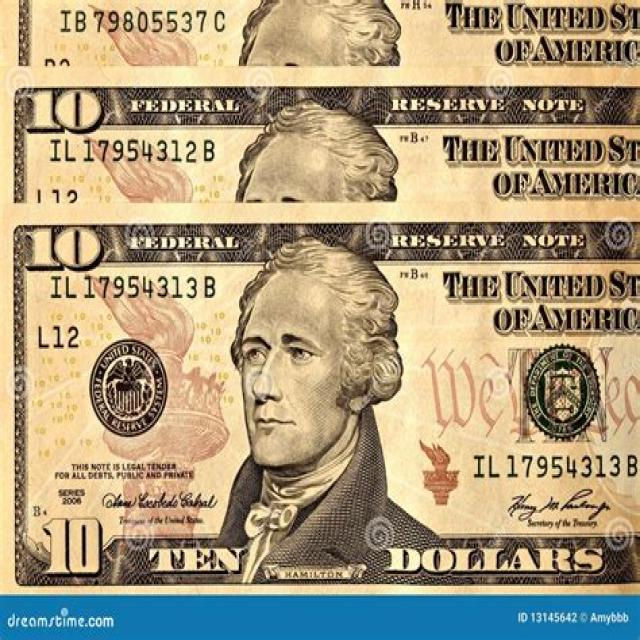Ten: (0, 203, 640, 594), (0, 64, 640, 206)
